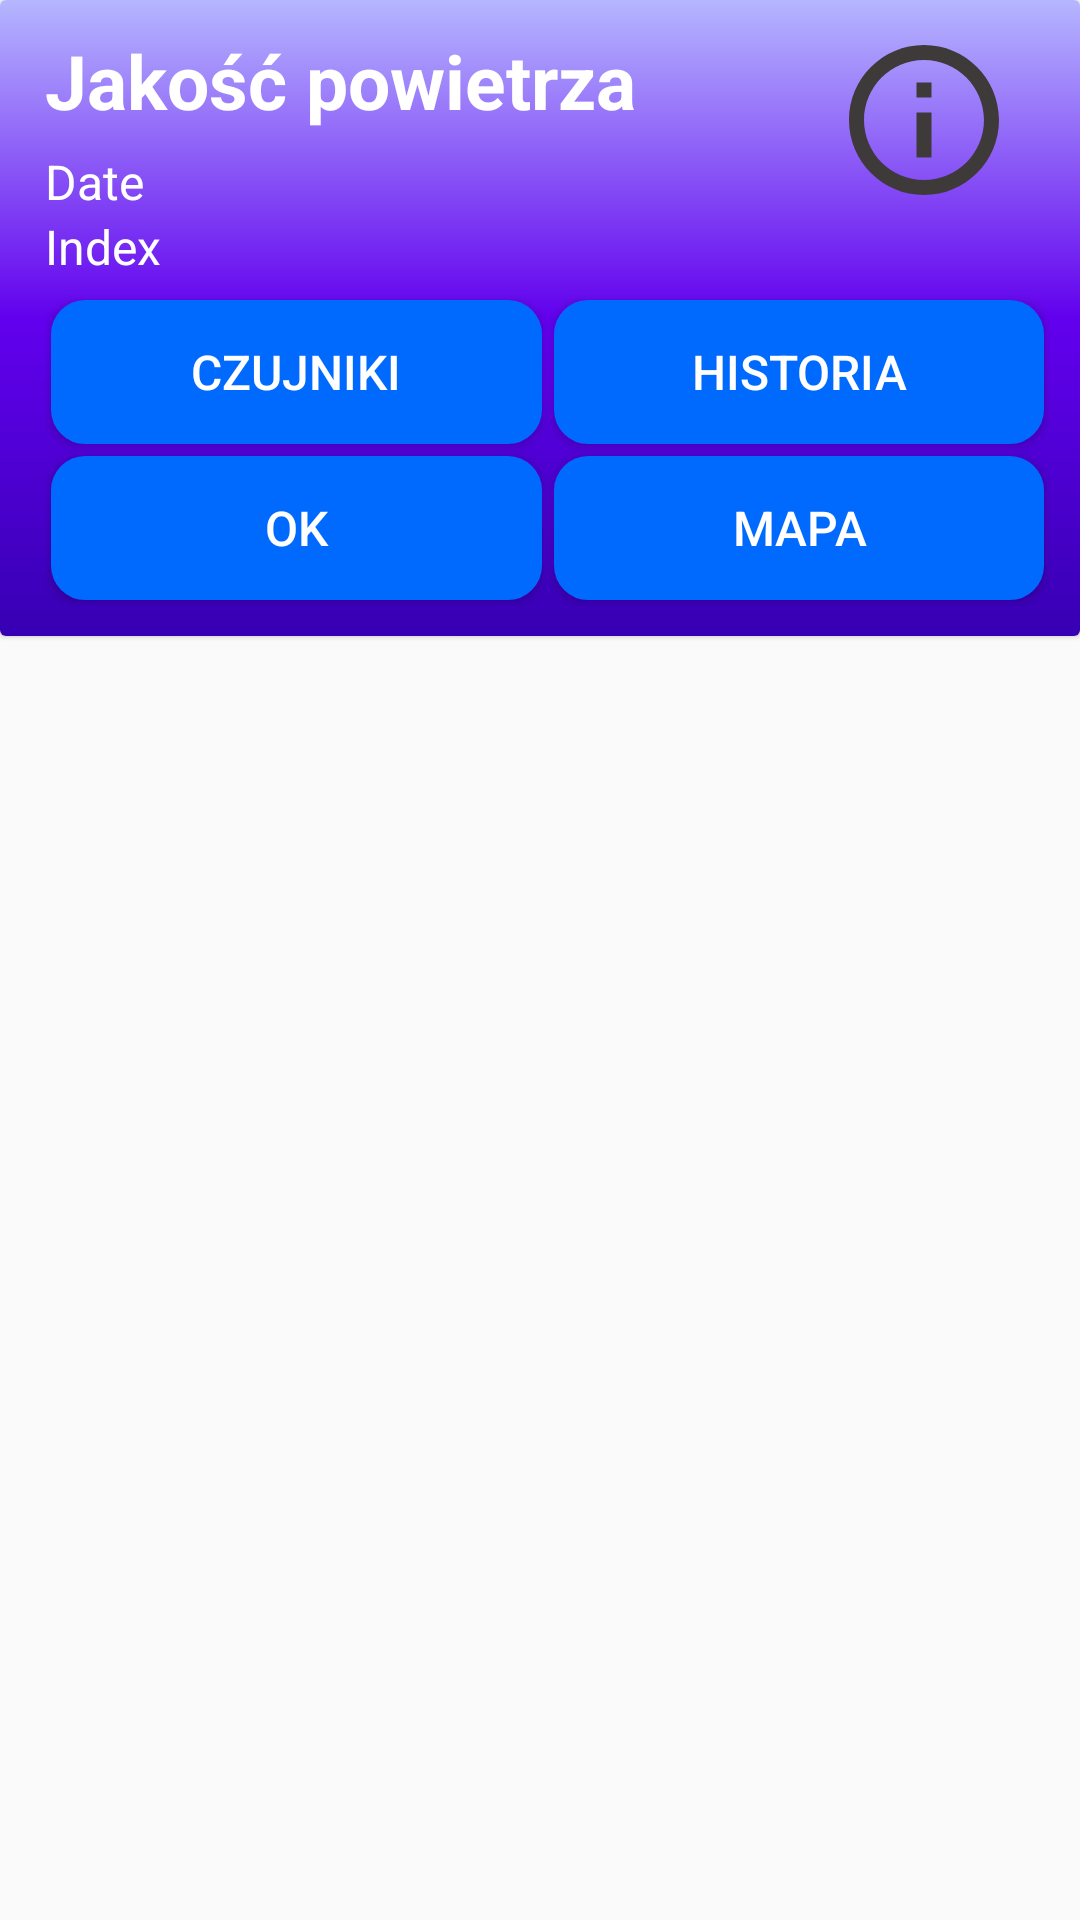

Icon click points for this 1080*1920 phone screenshot, format (x,y):
info: (924,120)
